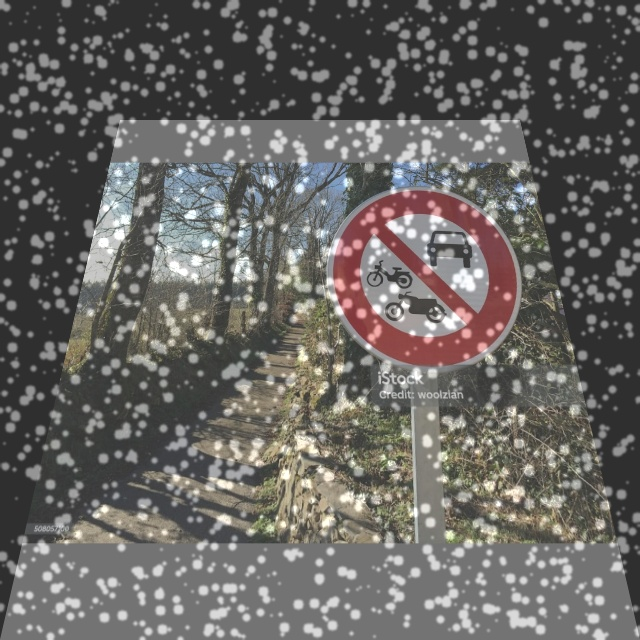All_Motor_Vehicles_Prohibited: (327, 186, 539, 365)
